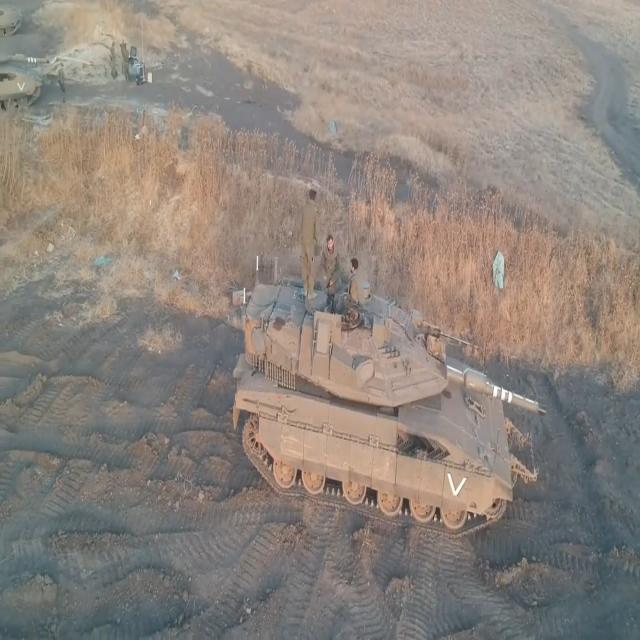tank: (223, 248, 534, 544)
